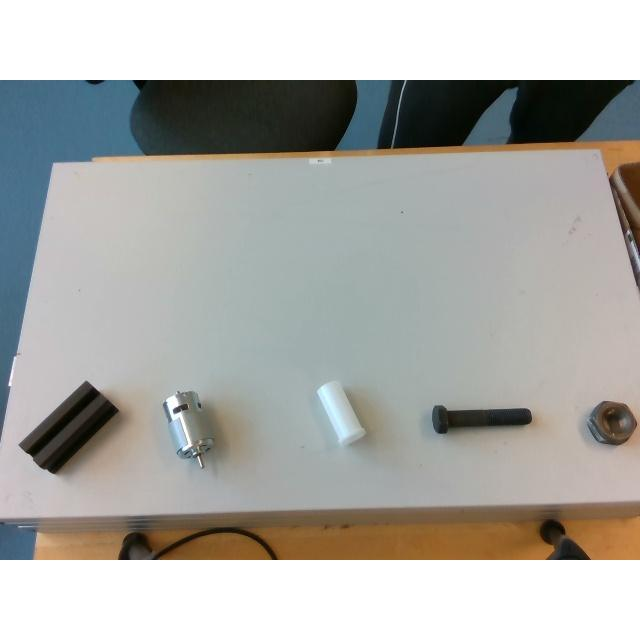M20_100: (432, 406, 532, 434)
M30: (588, 401, 636, 444)
Motor2: (163, 390, 213, 468)
S40_40_B: (19, 381, 117, 472)
Spacer: (316, 381, 364, 444)
